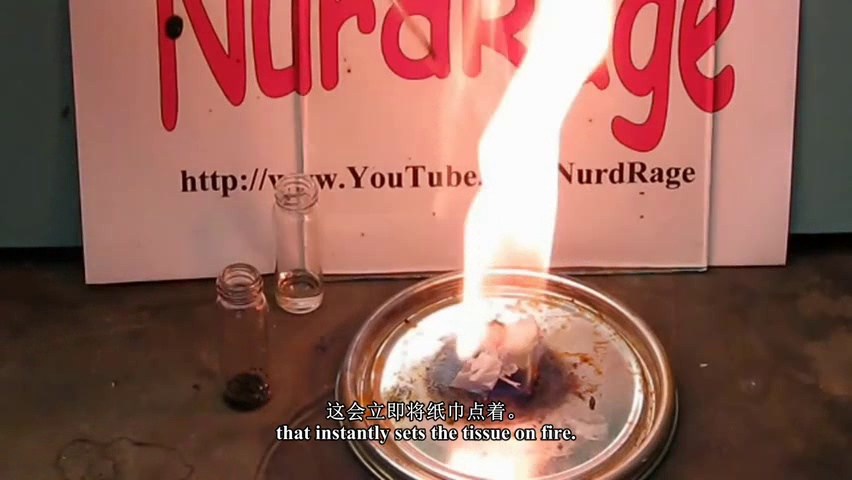fire: (453, 1, 621, 394)
